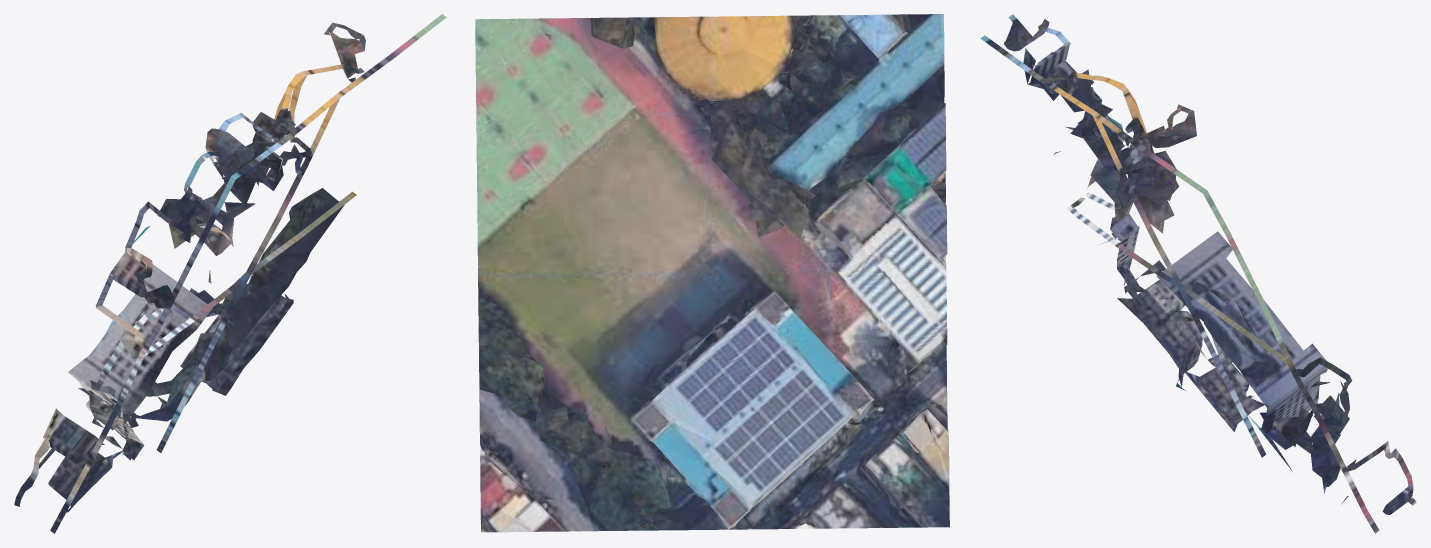
The picture shows the model from 3 angles, left to right: view 1: azimuth 30°, elevation 25°; view 2: azimuth 150°, elevation 25°; view 3: azimuth 270°, elevation 25°; orthographic projection. The views are drawn at different scales.
Size of the model in its own units: 160 by 147 by 141.
Materials: 2 (2 with a texture image).
